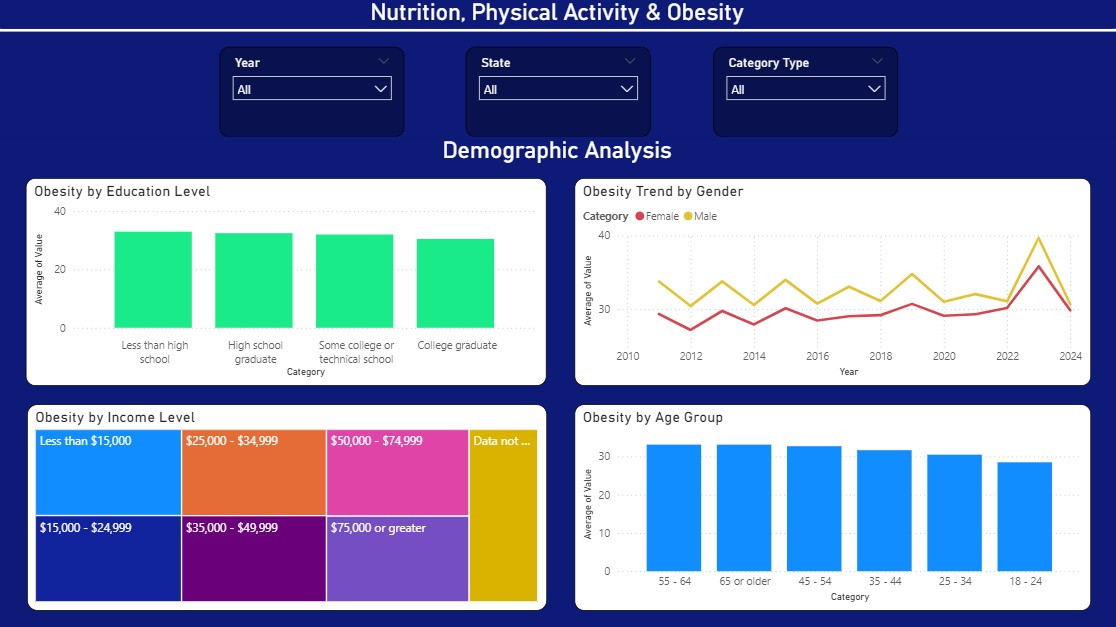

The page's visual inventory and layout, read from the dashboard file:
{"tool":"powerbi","page":{"name":"Demographic Analysis","canvas":[1280,720],"ordinal":1},"visuals":[{"type":"textbox","title":"Nutrition, Physical Activity & Obesity","box":[0,0,1280,38.5],"z":0},{"type":"slicer","fields":{"Values":["HealthData.Year"]},"box":[254.6,56,211.2,103.5],"z":1000},{"type":"slicer","fields":{"Values":["HealthData.State"]},"box":[535.8,56,211.2,103.5],"z":2000},{"type":"slicer","fields":{"Values":["HealthData.Category Type"]},"box":[818.4,56,211.2,103.5],"z":3000},{"type":"treemap","title":"Obesity by Income Level","fields":{"Group":["HealthData.Category"],"Values":["Avg(HealthData.Value)"]},"box":[34.3,463.8,594.2,236],"z":4000},{"type":"clusteredColumnChart","title":"Obesity by Age Group","fields":{"Category":["HealthData.Category"],"Y":["Avg(HealthData.Value)"]},"box":[660,463.8,590.1,236],"z":5000},{"type":"clusteredColumnChart","title":"Obesity by Education Level","fields":{"Category":["HealthData.Category"],"Y":["Avg(HealthData.Value)"]},"box":[32.9,205.8,595.5,237.4],"z":6000},{"type":"lineChart","title":"Obesity Trend by Gender","fields":{"Series":["HealthData.Category"],"Category":["HealthData.Year"],"Y":["Avg(HealthData.Value)"]},"box":[660,205.8,590.1,237.4],"z":7000},{"type":"textbox","title":"Demographic Analysis","box":[0,159.2,1280.3,32.9],"z":8000}]}

Visuals, with their boxes in screenshot pixels (x1, y1, x2, y2), scaled from the page's 1280x720 canvas onto the 1116x627 screenshot:
"Nutrition, Physical Activity & Obesity" textbox: [0, 0, 1115, 34]
slicer - HealthData.Year: [222, 49, 406, 139]
slicer - HealthData.State: [467, 49, 651, 139]
slicer - HealthData.Category Type: [714, 49, 898, 139]
"Obesity by Income Level" treemap: [30, 404, 548, 609]
"Obesity by Age Group" clusteredColumnChart: [575, 404, 1090, 609]
"Obesity by Education Level" clusteredColumnChart: [29, 179, 548, 386]
"Obesity Trend by Gender" lineChart: [575, 179, 1090, 386]
"Demographic Analysis" textbox: [0, 139, 1115, 167]
